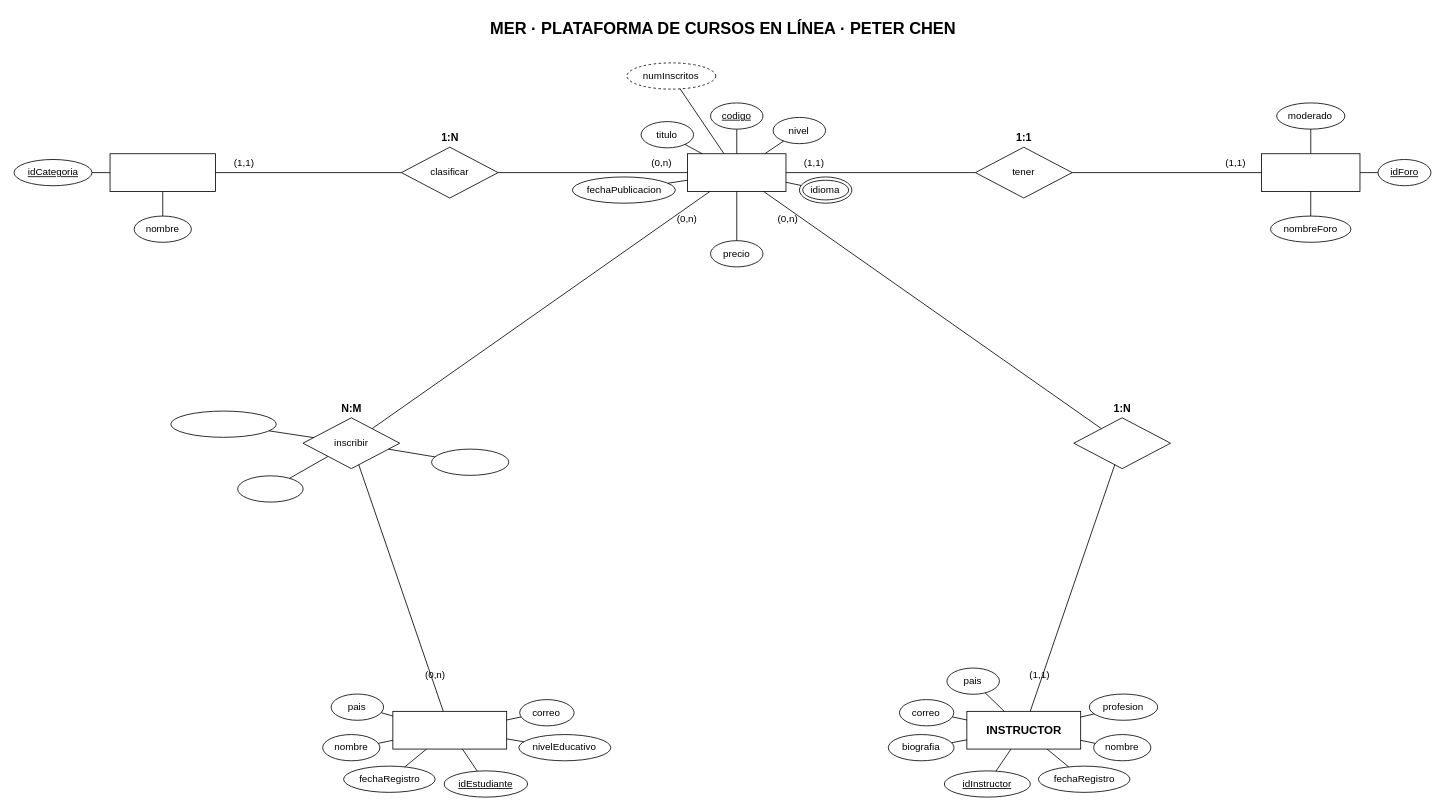
Some shapes in this 1446 by 812 pixel diagram are drawn without their labels. The box of each missing label's shape, as (x1, y1, x2, y2) in pixels:
calificacion: (431, 448, 509, 475)
CATEGORIA: (109, 153, 215, 191)
CURSO: (687, 153, 786, 191)
dictar: (1073, 417, 1171, 469)
ESTUDIANTE: (392, 711, 507, 749)
fechaInscripcion: (170, 410, 276, 437)
FORO: (1261, 153, 1360, 191)
progreso: (237, 475, 303, 502)
